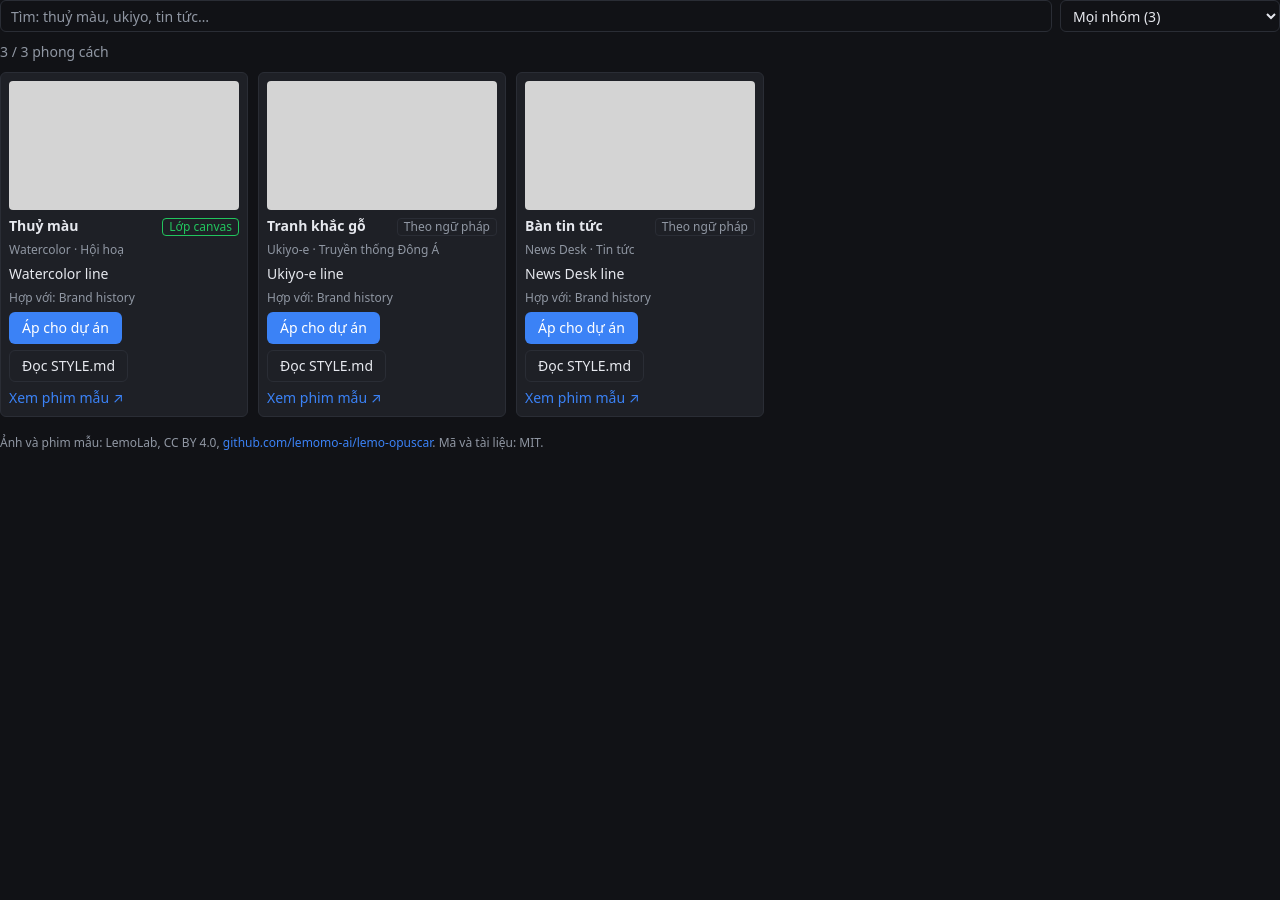
Test case: Gallery › apply to the project: Huỷ sends nothing
expect the button "Áp cho dự án" below "Watercolor line" is enabled: met, box [9, 312, 122, 344]
Click the button "Áp cho dự án" below "Ukiyo-e line".
click(323, 328)  # box [267, 312, 380, 344]
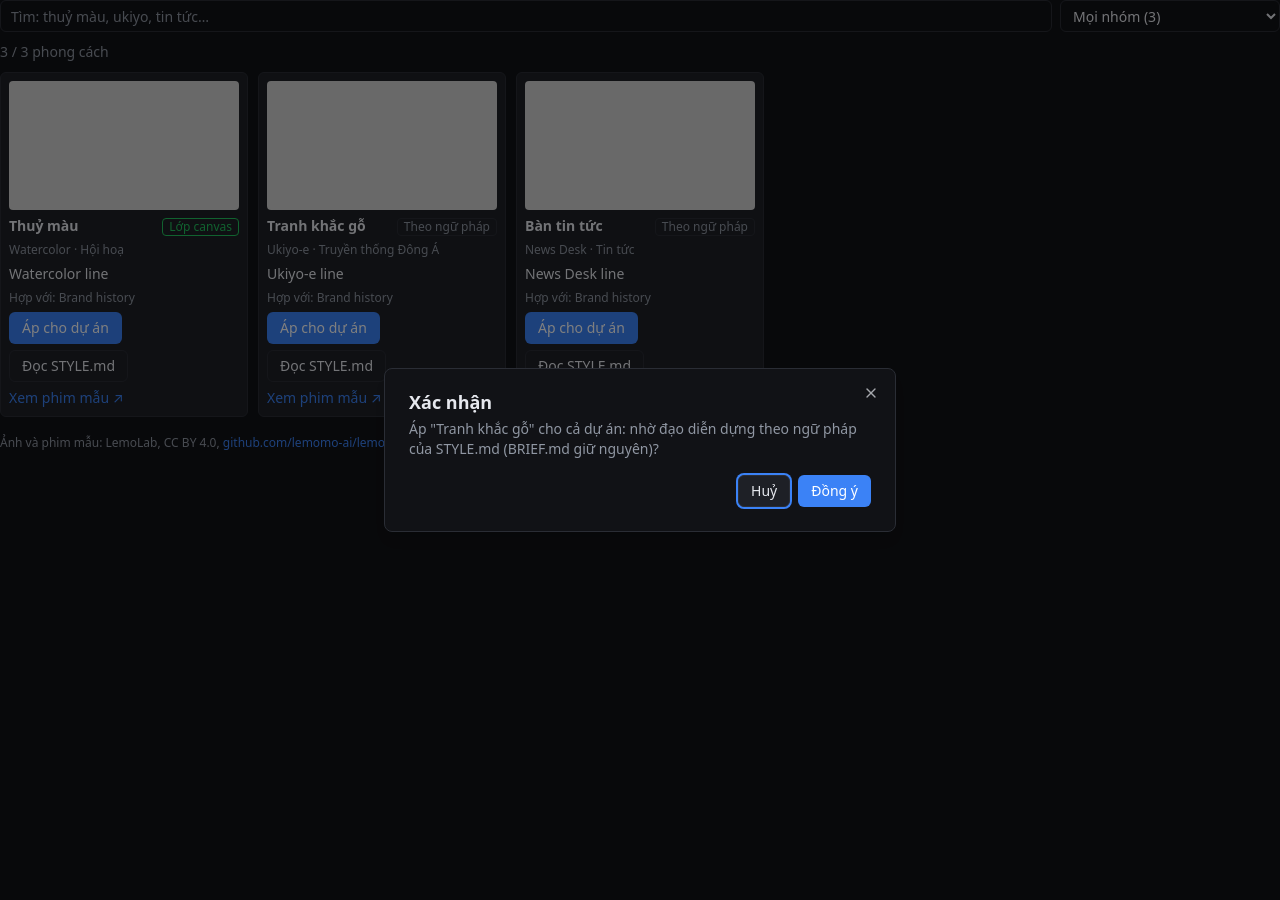
Click the button "Huỷ".
click(764, 491)  # box [738, 475, 790, 507]
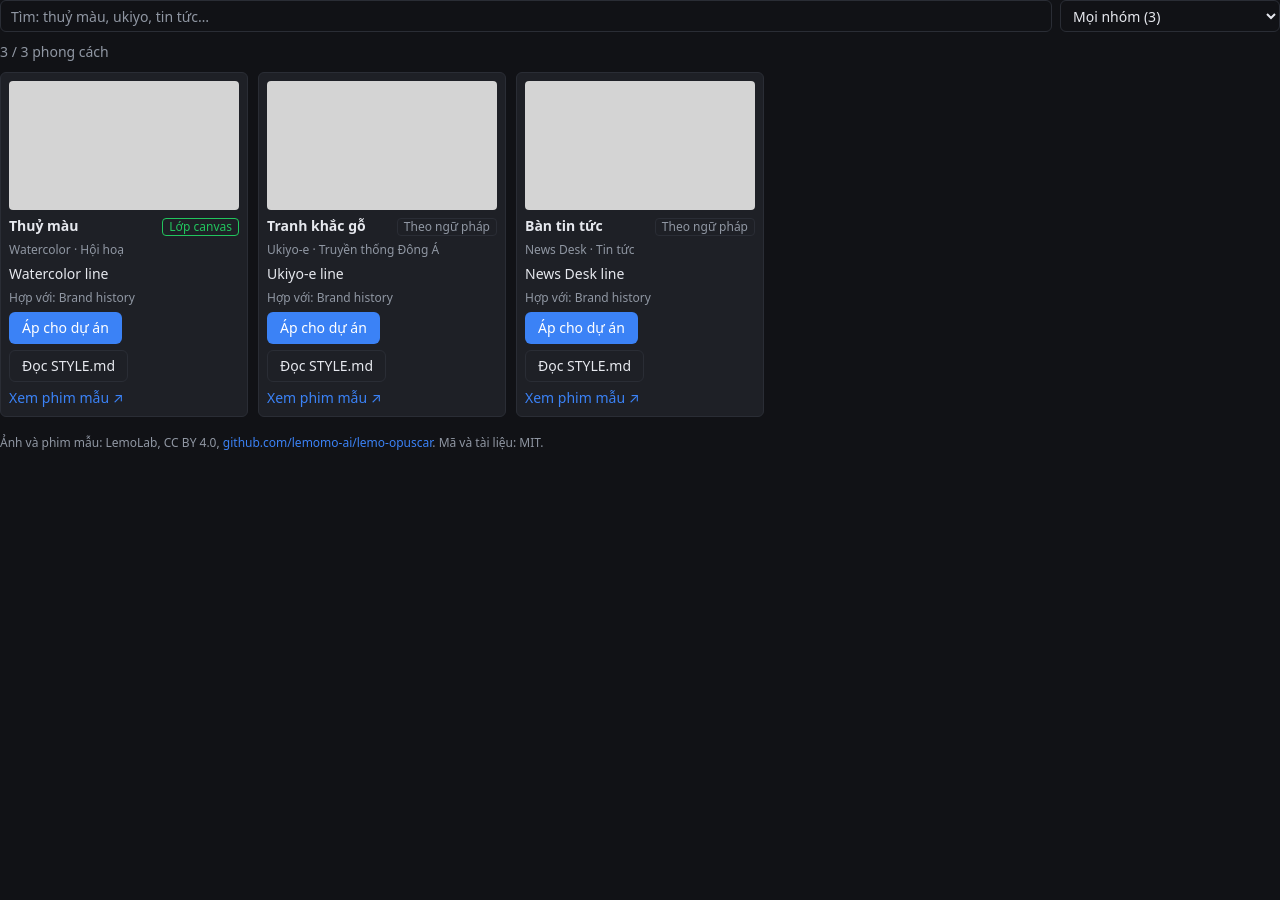
expect the dialog is gone: met
